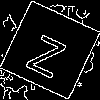Z: (25, 25, 72, 79)
